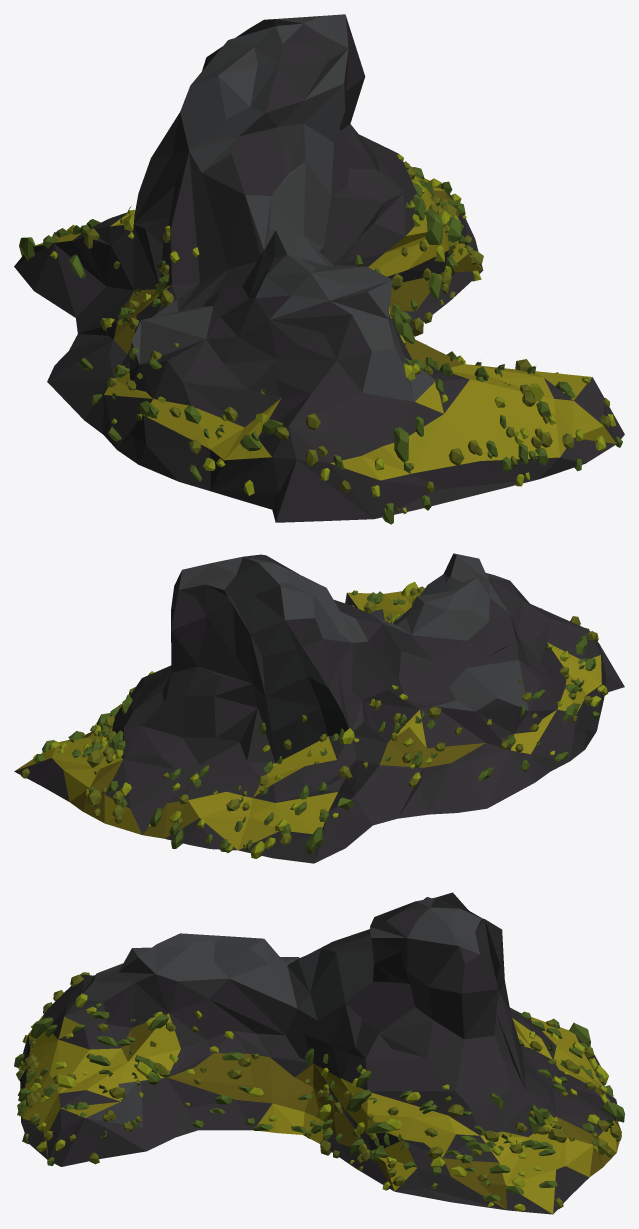
The model's file is New Tutorial Island 1.fbx.
The picture shows the model from 3 angles, top to bottom: view 1: azimuth 30°, elevation 25°; view 2: azimuth 150°, elevation 25°; view 3: azimuth 270°, elevation 25°; orthographic projection. The views are drawn at different scales.
Parts seen in each view (by area): view 1: New Rock 1; view 2: New Rock 1; view 3: New Rock 1.
Part boxes in pixels (x1,y1,x2,y2): New Rock 1: (14,14,624,524); New Rock 1: (14,553,624,863); New Rock 1: (14,892,624,1214).
Size of the model in its own units: 5672 by 2915 by 7080.
